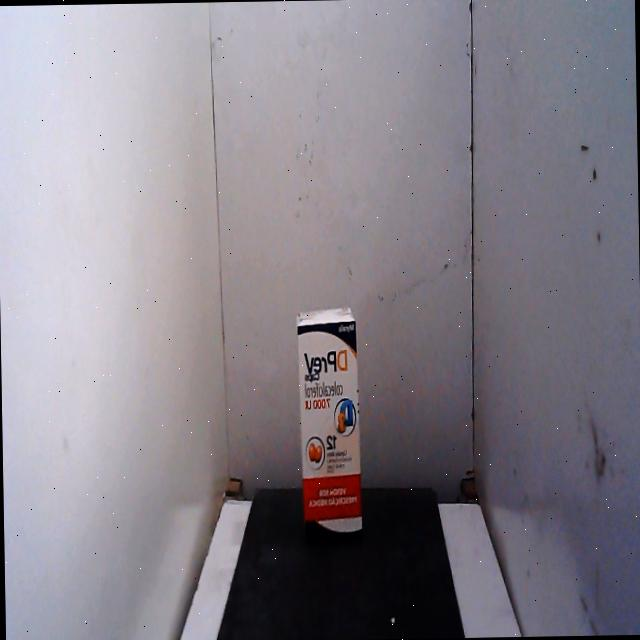paper: (278, 289, 376, 559)
